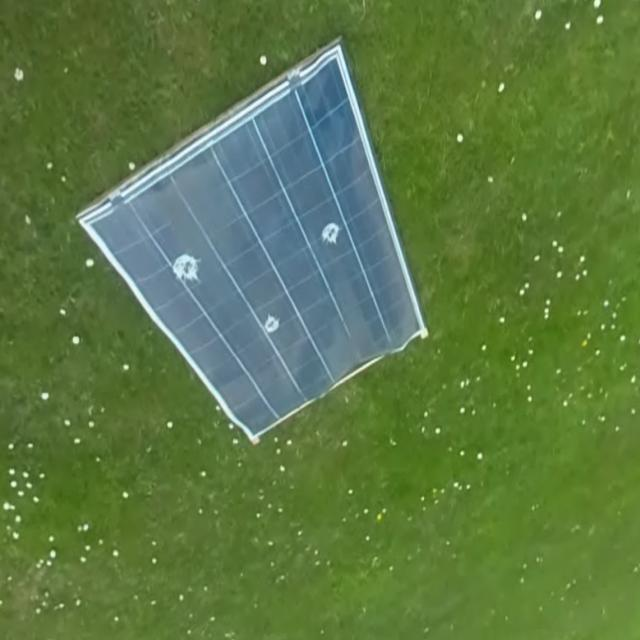Bird-drop: (174, 251, 201, 282), (319, 217, 341, 244), (263, 313, 280, 334)
